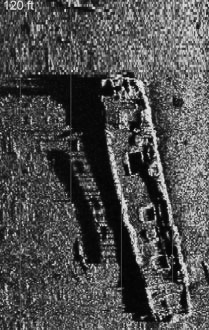ship: (97, 72, 194, 324)
